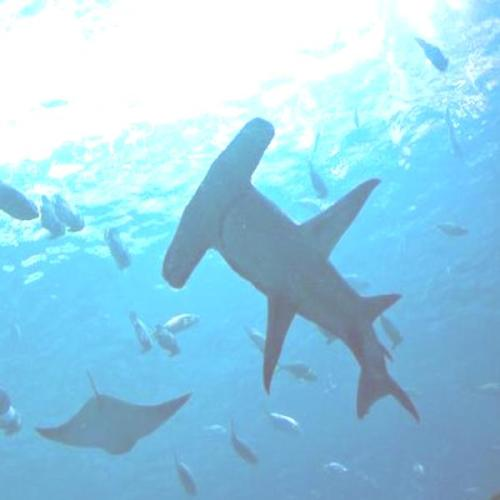shark-endangered: (168, 117, 425, 425)
